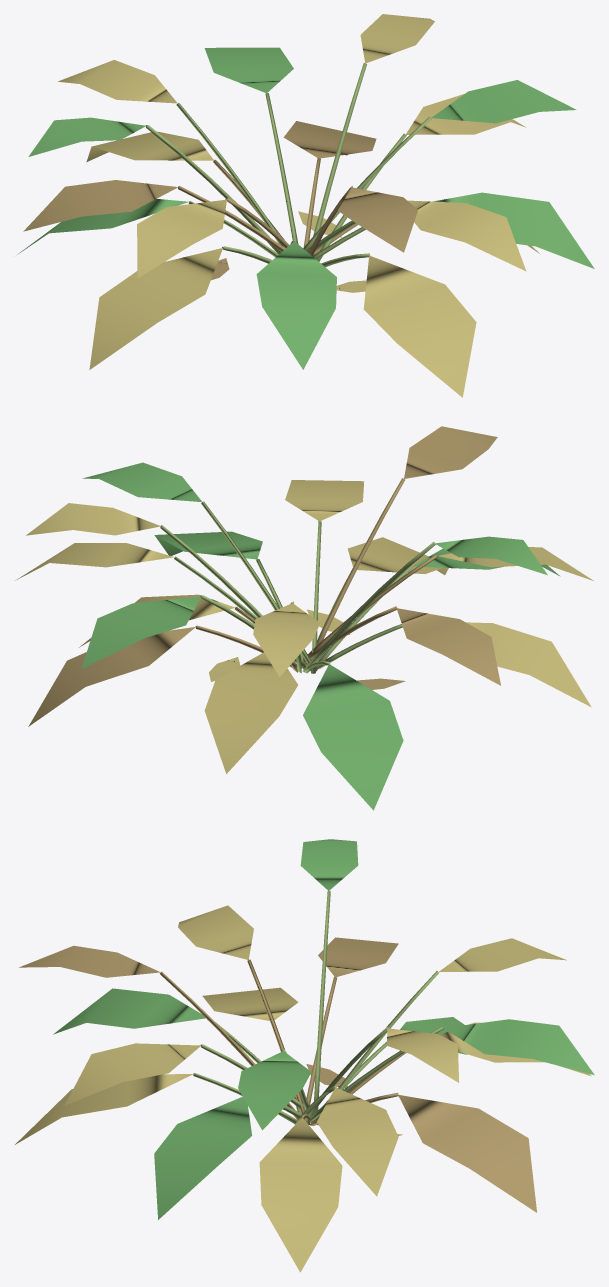
The model's file is SM_PlantPotWiltedLod2.fbx.
The picture shows the model from 3 angles, top to bottom: view 1: azimuth 30°, elevation 25°; view 2: azimuth 150°, elevation 25°; view 3: azimuth 270°, elevation 25°; orthographic projection. The views are drawn at different scales.
Parts seen in each view (by area): view 1: PlantPotWiltedLod2; view 2: PlantPotWiltedLod2; view 3: PlantPotWiltedLod2.
Part boxes in pixels (box(x1,y1,x2,y2)): PlantPotWiltedLod2: box(17, 14, 594, 397); PlantPotWiltedLod2: box(15, 426, 593, 810); PlantPotWiltedLod2: box(15, 839, 594, 1272).
Bounding box in the file's own units: 1.67 × 0.6847 × 1.67.
